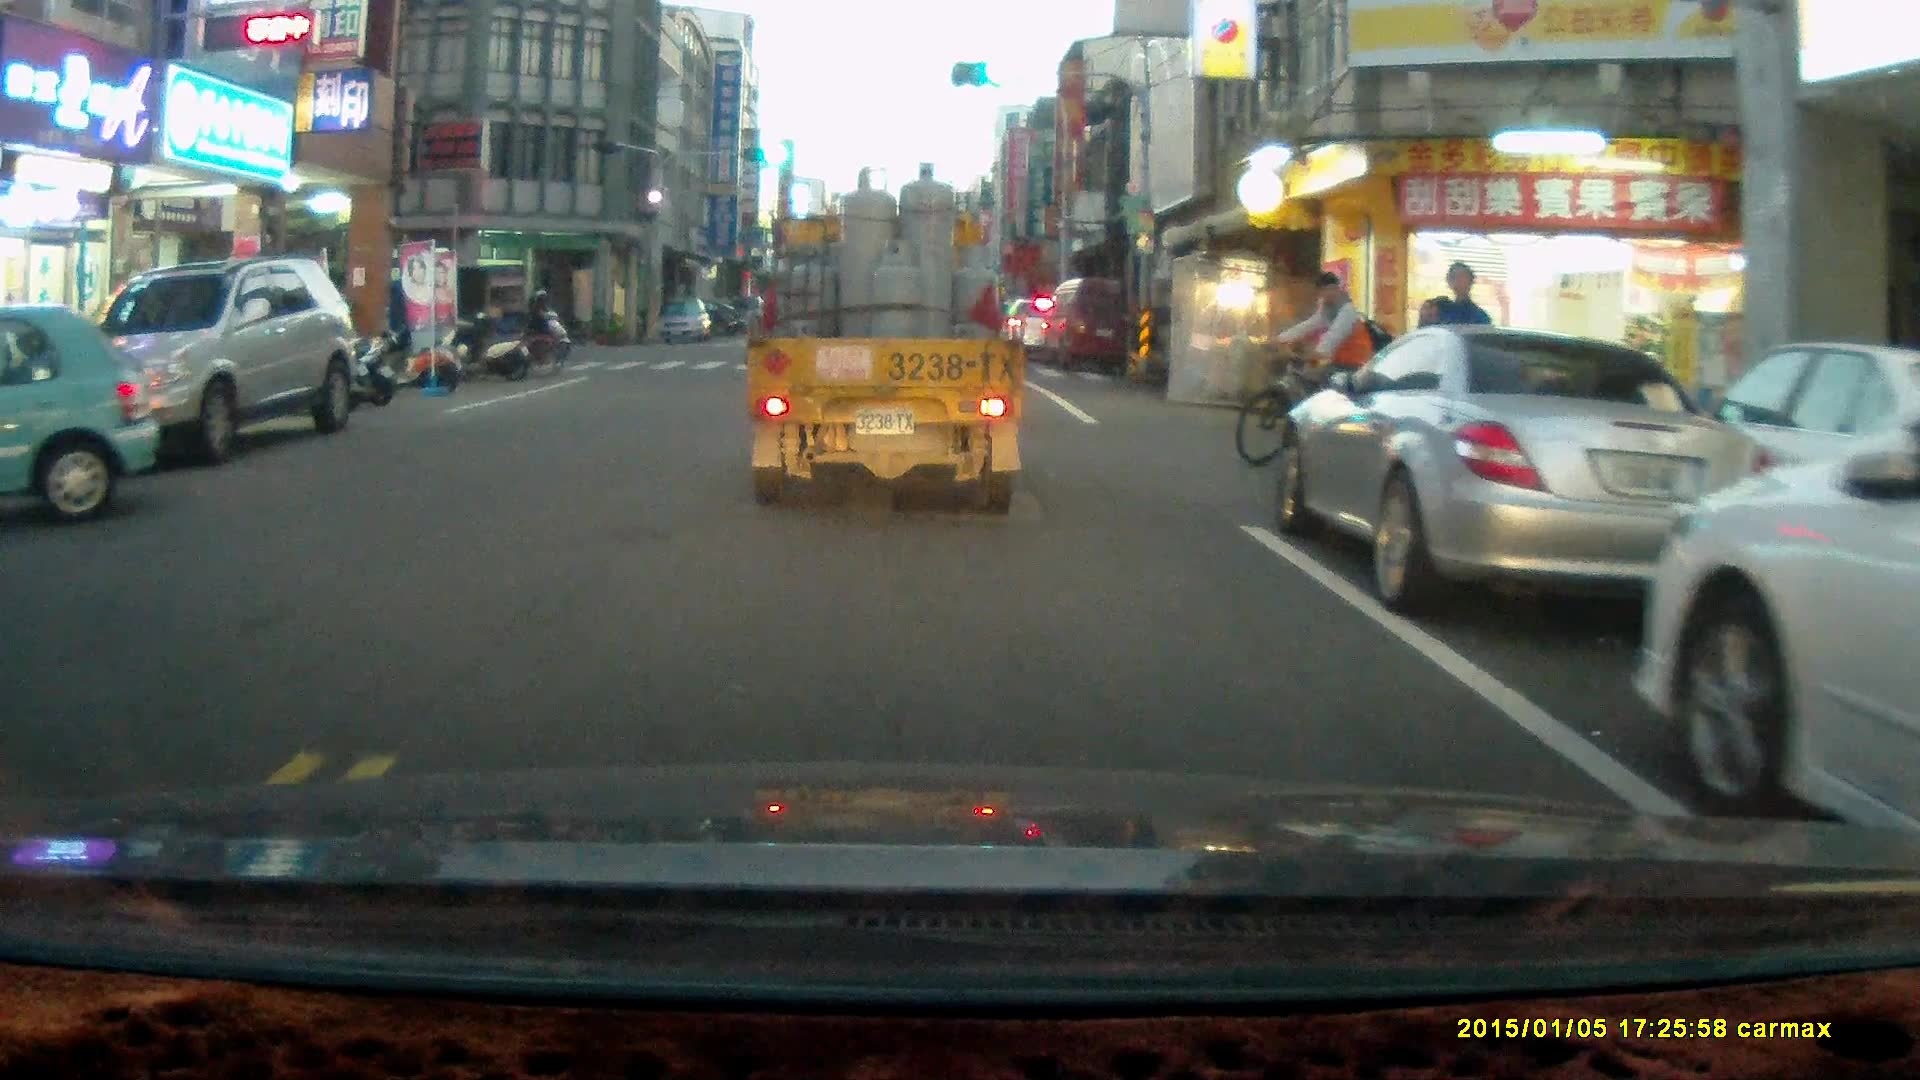rider: (1237, 269, 1407, 468), (510, 282, 574, 361)
vehicle: (1275, 328, 1767, 624), (1638, 390, 1920, 885), (746, 162, 1033, 515), (70, 257, 371, 461), (1, 309, 162, 528), (333, 261, 534, 365), (1045, 274, 1147, 370), (1035, 288, 1088, 361), (656, 297, 714, 347)
